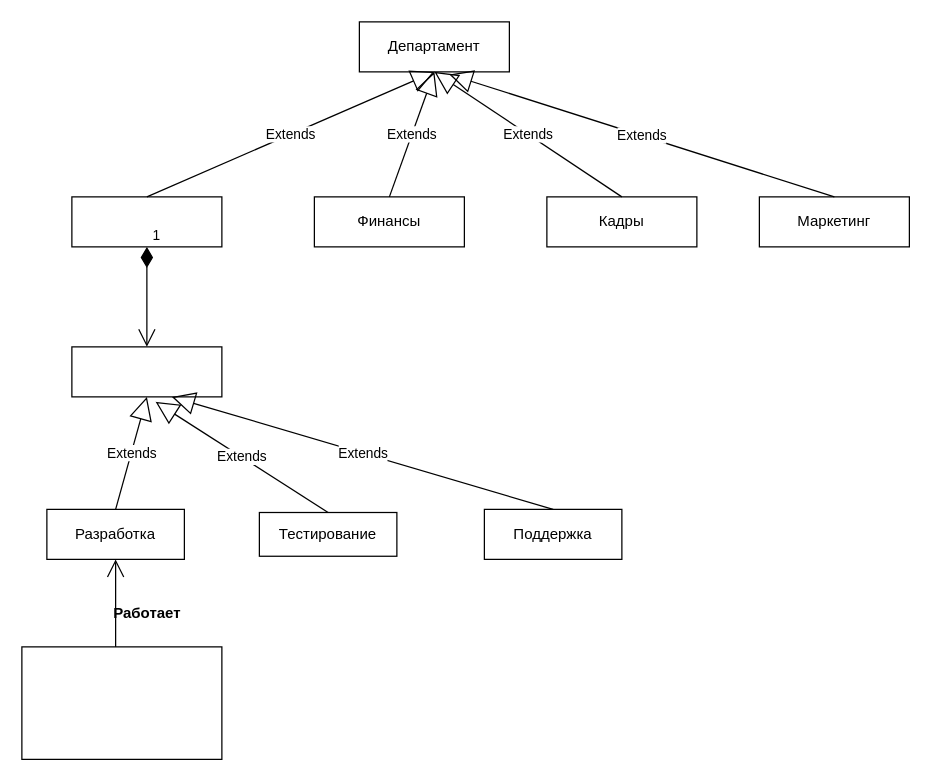
Image size: 931x781. Some labels were removed from this diagram. The centre of each missing label's shape, as x and y in pixels:
Object:Работник имя = Маша: point 121,702
ИТ: point 146,221
Отдел: point 146,371
